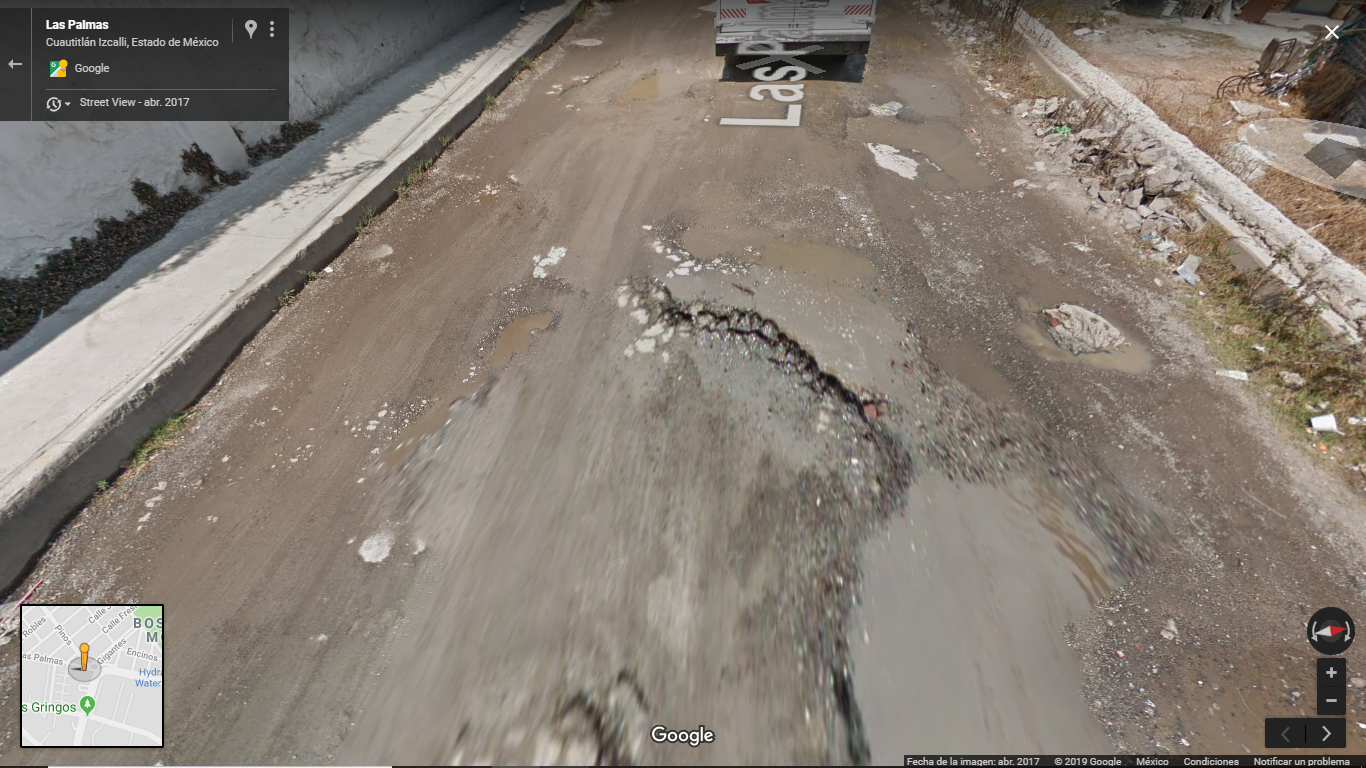pothole: (667, 212, 892, 306), (832, 100, 1006, 205), (914, 318, 1054, 436), (470, 290, 563, 375), (1081, 305, 1165, 387)
